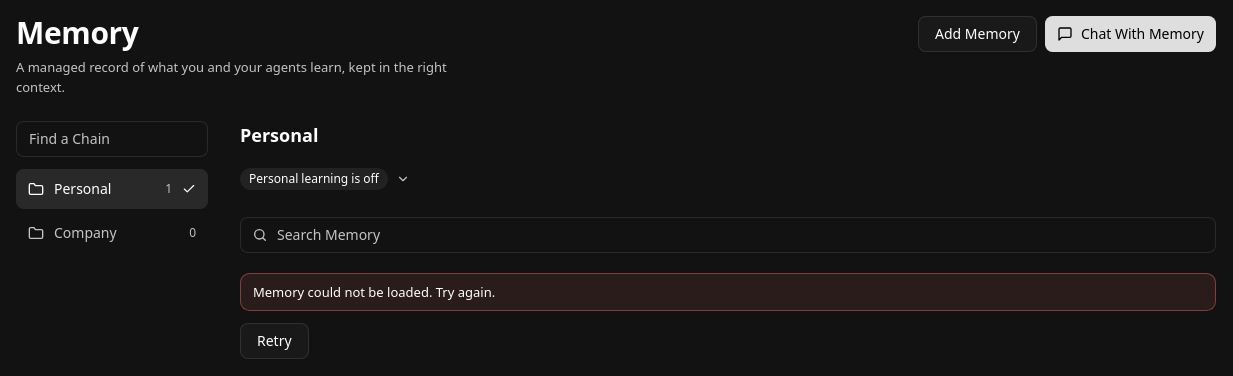
Scenario: memory failures never look empty and a retry recovers without reading unrelated APIs
The width and height of the screenshot is (1233, 376).
Expected: the text "Memory could not be loaded. Try again." is shown, [240,272,1216,310]
Click the button "Retry" at (274, 340), box [240,322,309,358]
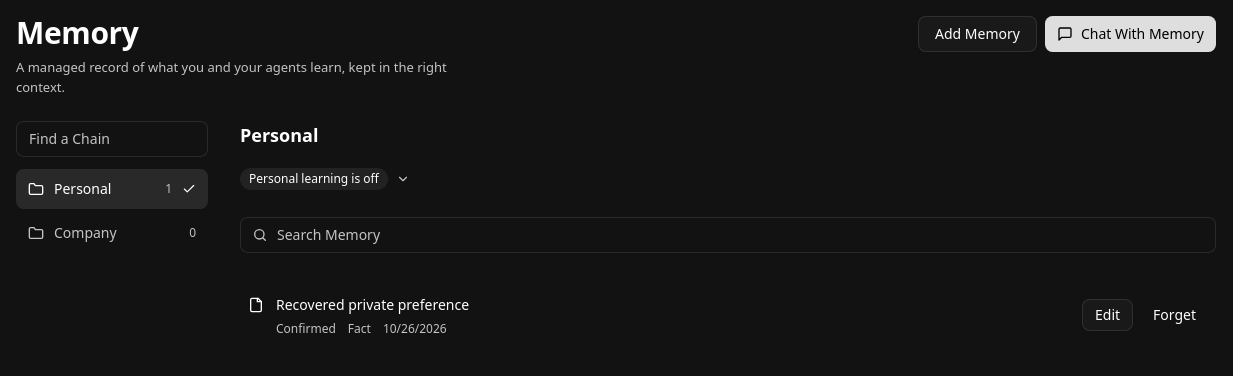
Result: the text "Recovered private preference" is shown at [276,294,469,314]
